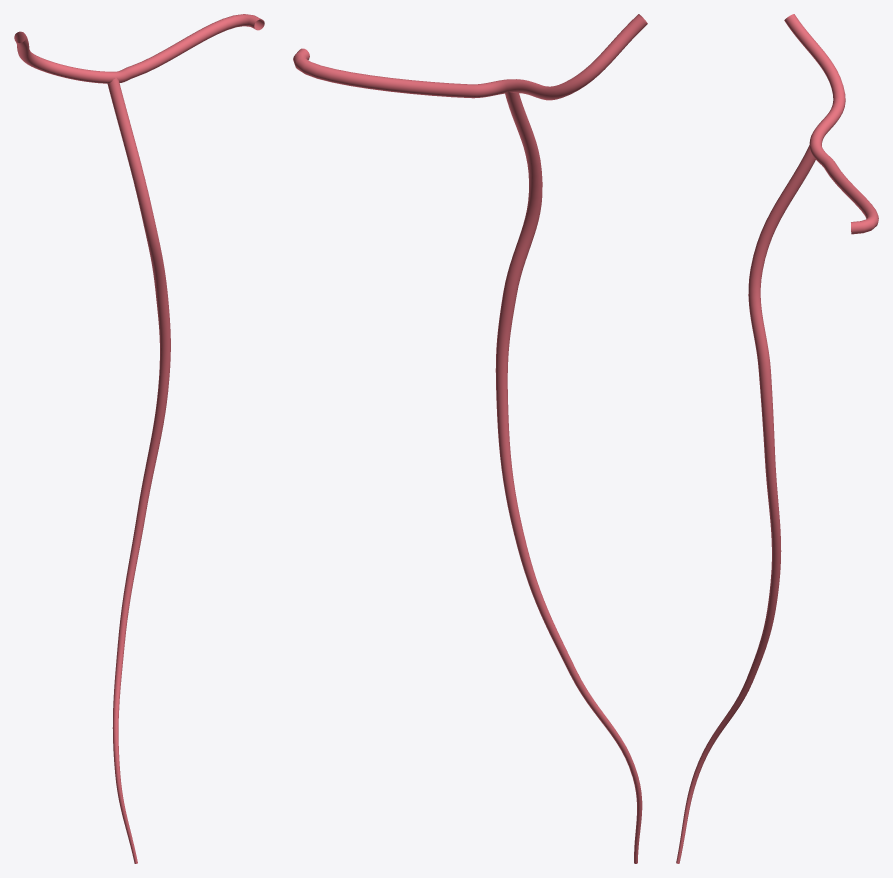
The picture shows the model from 3 angles, left to right: view 1: azimuth 30°, elevation 25°; view 2: azimuth 150°, elevation 25°; view 3: azimuth 270°, elevation 25°; orthographic projection. The views are drawn at different scales.
Parts seen in each view (by area): view 1: ZA_4e89cac6f9b59b58; view 2: ZA_4e89cac6f9b59b58; view 3: ZA_4e89cac6f9b59b58.
Boxes of the visible parts, x1,y1,x2,y2 form: ZA_4e89cac6f9b59b58: (14,14,264,863); ZA_4e89cac6f9b59b58: (293,14,647,863); ZA_4e89cac6f9b59b58: (676,14,878,863).
Size of the model in its own units: 0.0369 by 0.1018 by 0.0228.
